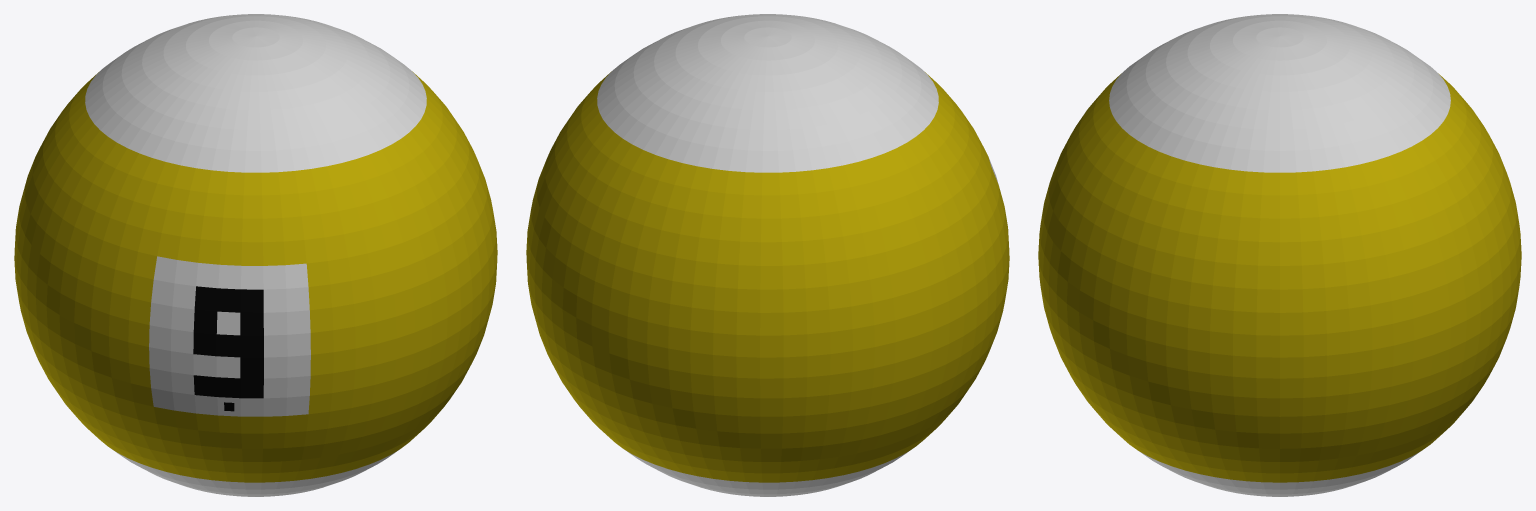
The model's file is pool-ball.obj.
3 renders of one model, left to right at view 1: azimuth 30°, elevation 25°; view 2: azimuth 150°, elevation 25°; view 3: azimuth 270°, elevation 25°, orthographic.
Visible parts, largest first — view 1: Sphere_Sphere.001; view 2: Sphere_Sphere.001; view 3: Sphere_Sphere.001.
Boxes of the visible parts, box(x1,y1,x2,y2) form: Sphere_Sphere.001: box(14, 14, 497, 496); Sphere_Sphere.001: box(526, 14, 1009, 496); Sphere_Sphere.001: box(1038, 14, 1521, 496).
Bounding box in the file's own units: 2 × 2 × 2.
